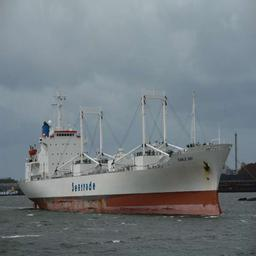Ship: (14, 101, 236, 221)
